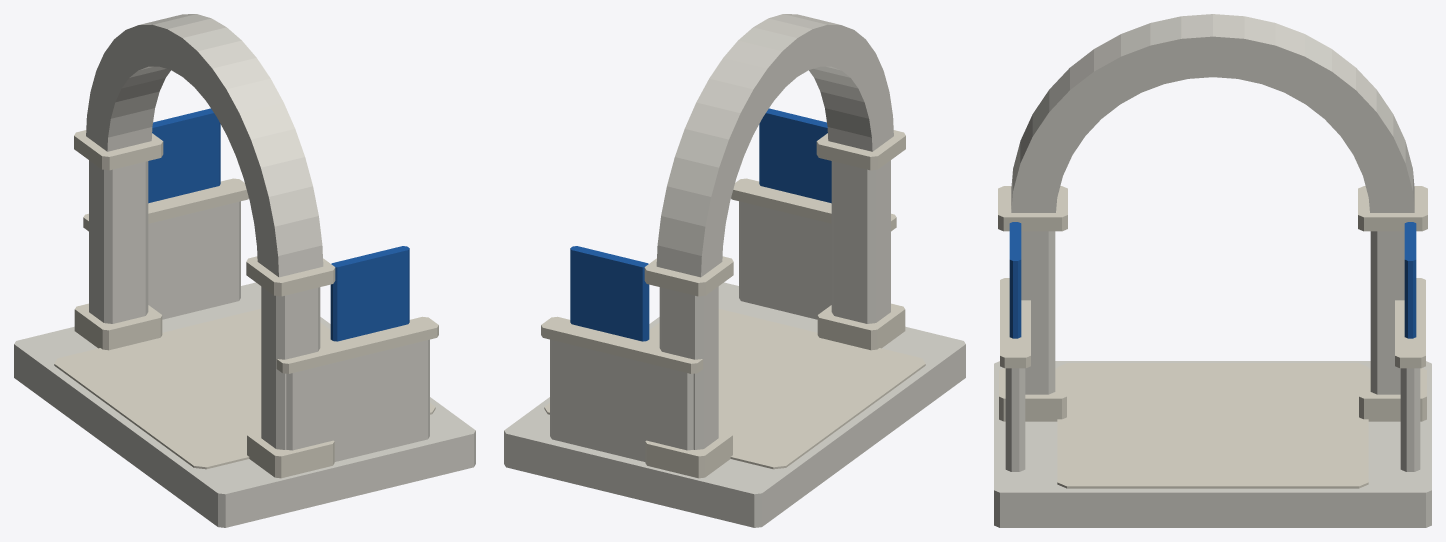
Rendered from quay_gateway.glb.
3 renders of one model, left to right at view 1: azimuth 30°, elevation 25°; view 2: azimuth 150°, elevation 25°; view 3: azimuth 270°, elevation 25°, orthographic. The views are drawn at different scales.
Visible parts, largest first — view 1: EXPORT_quay_gateway; view 2: EXPORT_quay_gateway; view 3: EXPORT_quay_gateway.
Boxes of the visible parts, box(x1,y1,x2,y2) form: EXPORT_quay_gateway: box(14, 14, 475, 527); EXPORT_quay_gateway: box(504, 14, 965, 527); EXPORT_quay_gateway: box(994, 14, 1431, 527).
Size of the model in its own units: 3.2 by 4.72 by 4.5.
